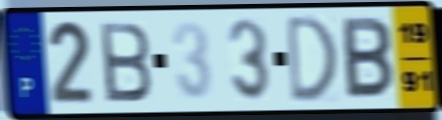2: (49, 17, 98, 108)
3: (226, 16, 272, 104), (171, 18, 215, 103)
B: (97, 19, 155, 105), (340, 15, 396, 102)
D: (284, 12, 339, 106)
